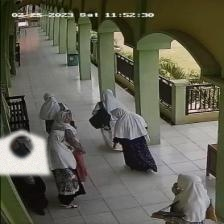Mukena: (0, 130, 49, 174)
